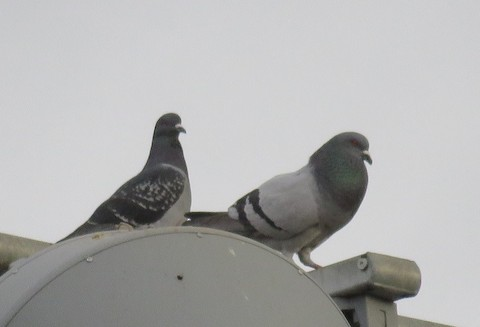pigeon: (182, 127, 386, 272), (58, 106, 197, 251)
